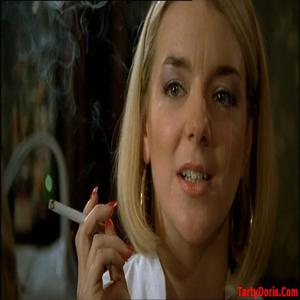cigarette: (42, 191, 89, 228)
